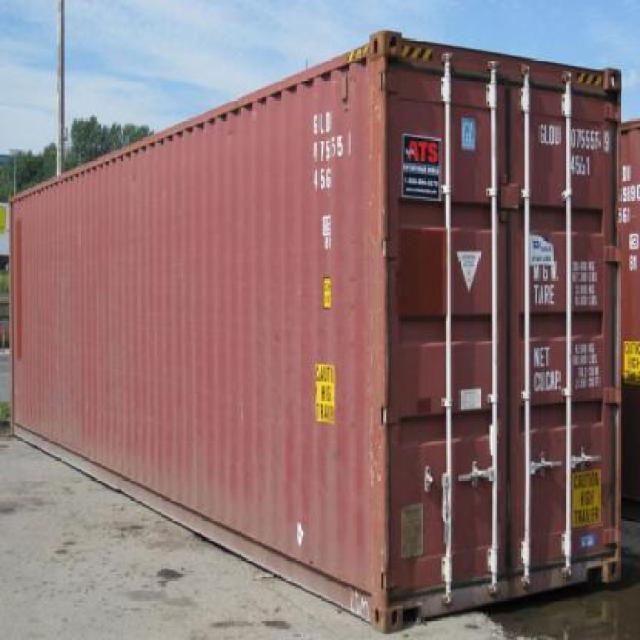rust: (356, 42, 404, 604)
